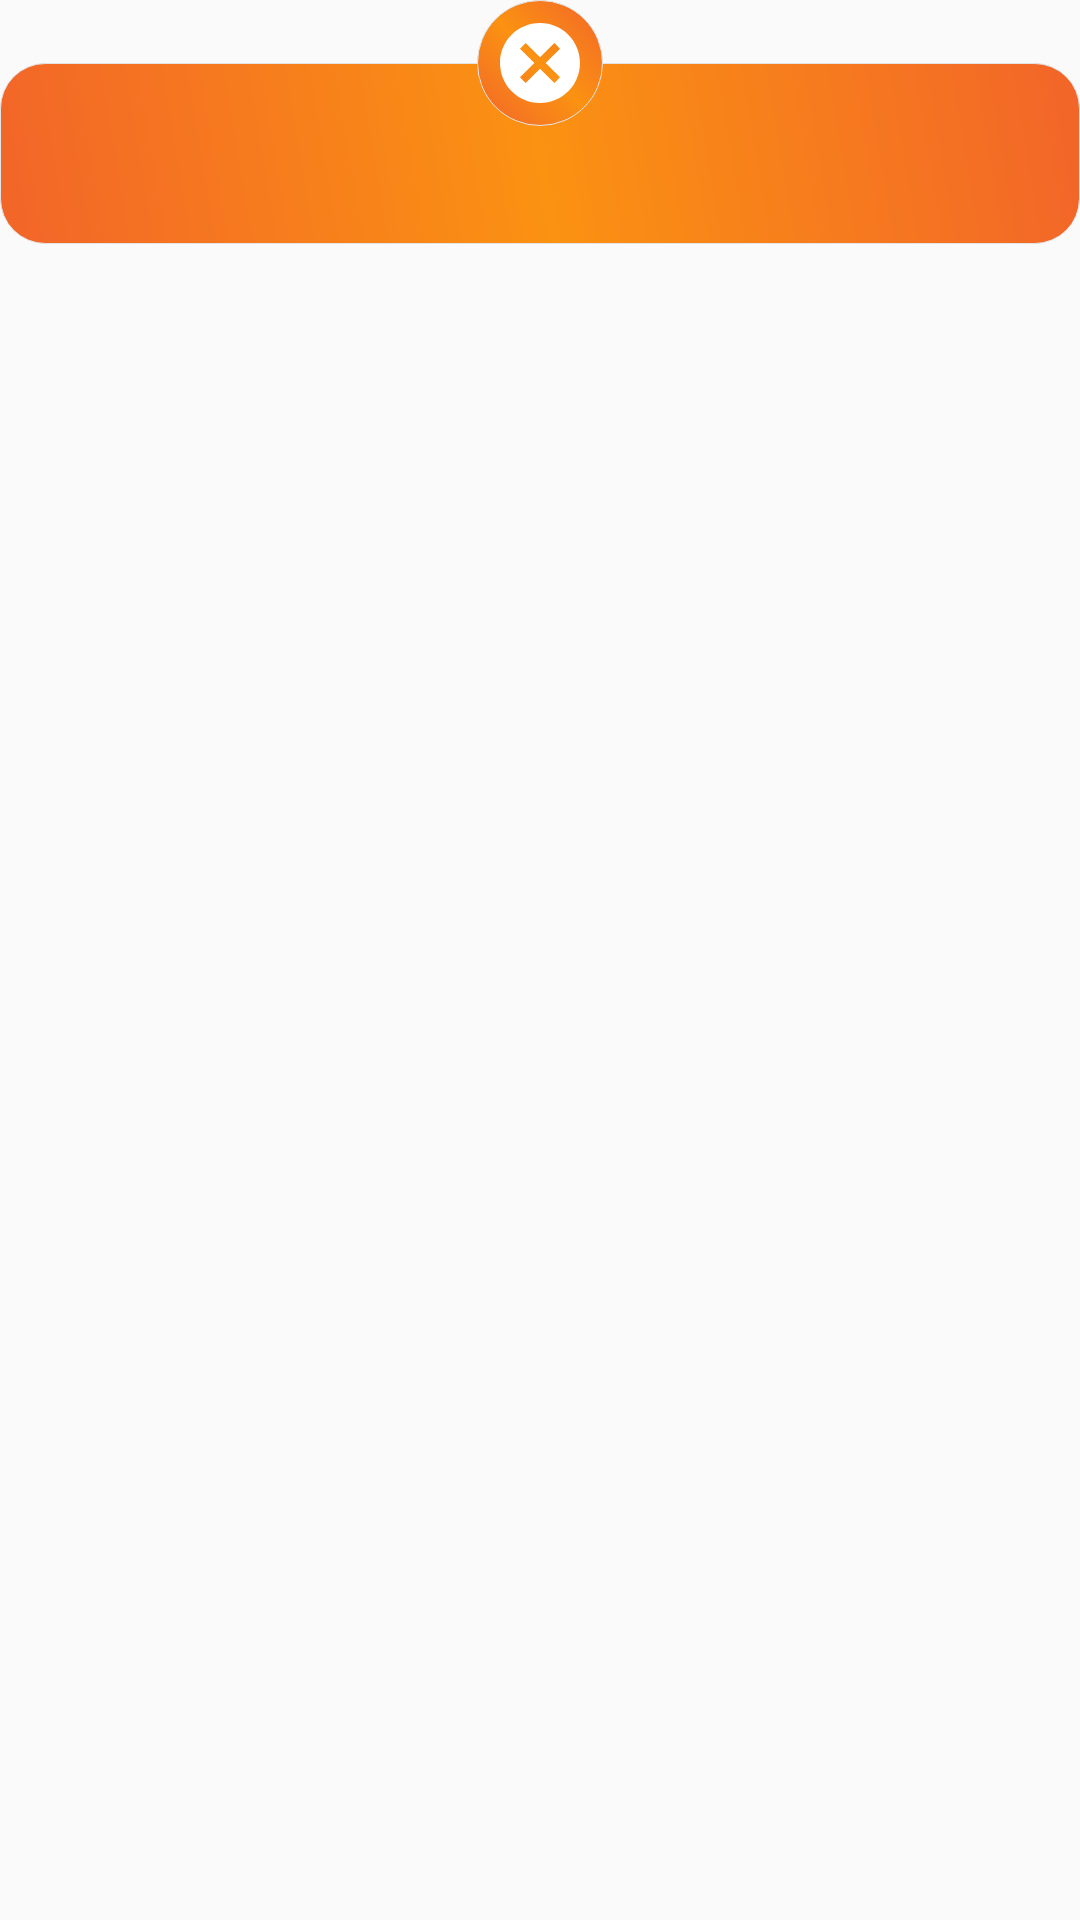

Where icons sit on this 1080 x 1920 app screen, as (x1, y1, x2, y2):
cancel: (500, 23, 580, 103)
